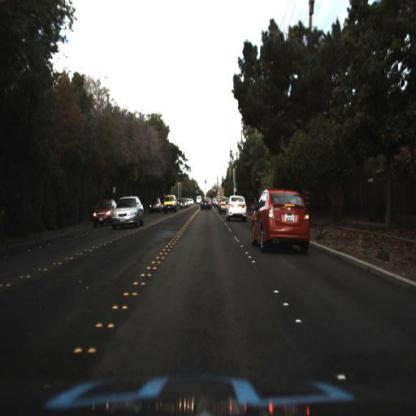car: (251, 188, 315, 256), (110, 194, 147, 234), (92, 198, 117, 228), (226, 194, 251, 224), (162, 193, 178, 219), (148, 195, 163, 217), (217, 195, 233, 215), (200, 196, 213, 215), (195, 192, 204, 208)
